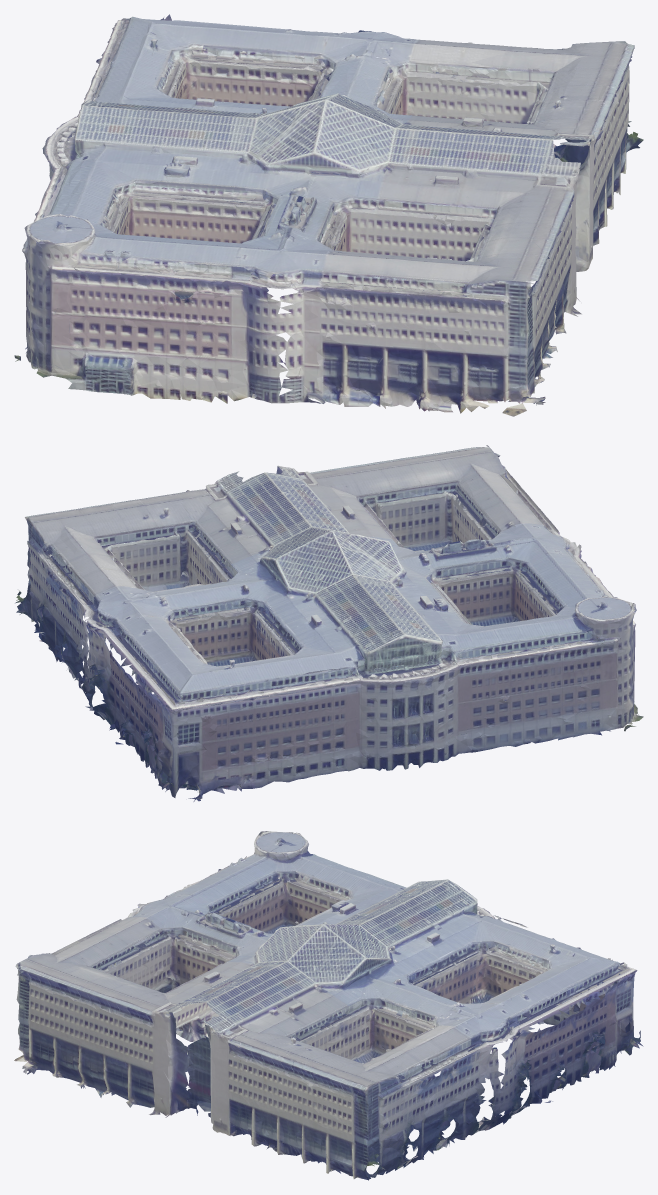
Rendered from uni-mail.glb.
The picture shows the model from 3 angles, top to bottom: view 1: azimuth 30°, elevation 25°; view 2: azimuth 150°, elevation 25°; view 3: azimuth 270°, elevation 25°; orthographic projection. The views are drawn at different scales.
Size of the model in its own units: 143 by 37.63 by 146.
5 materials, 5 textured.
